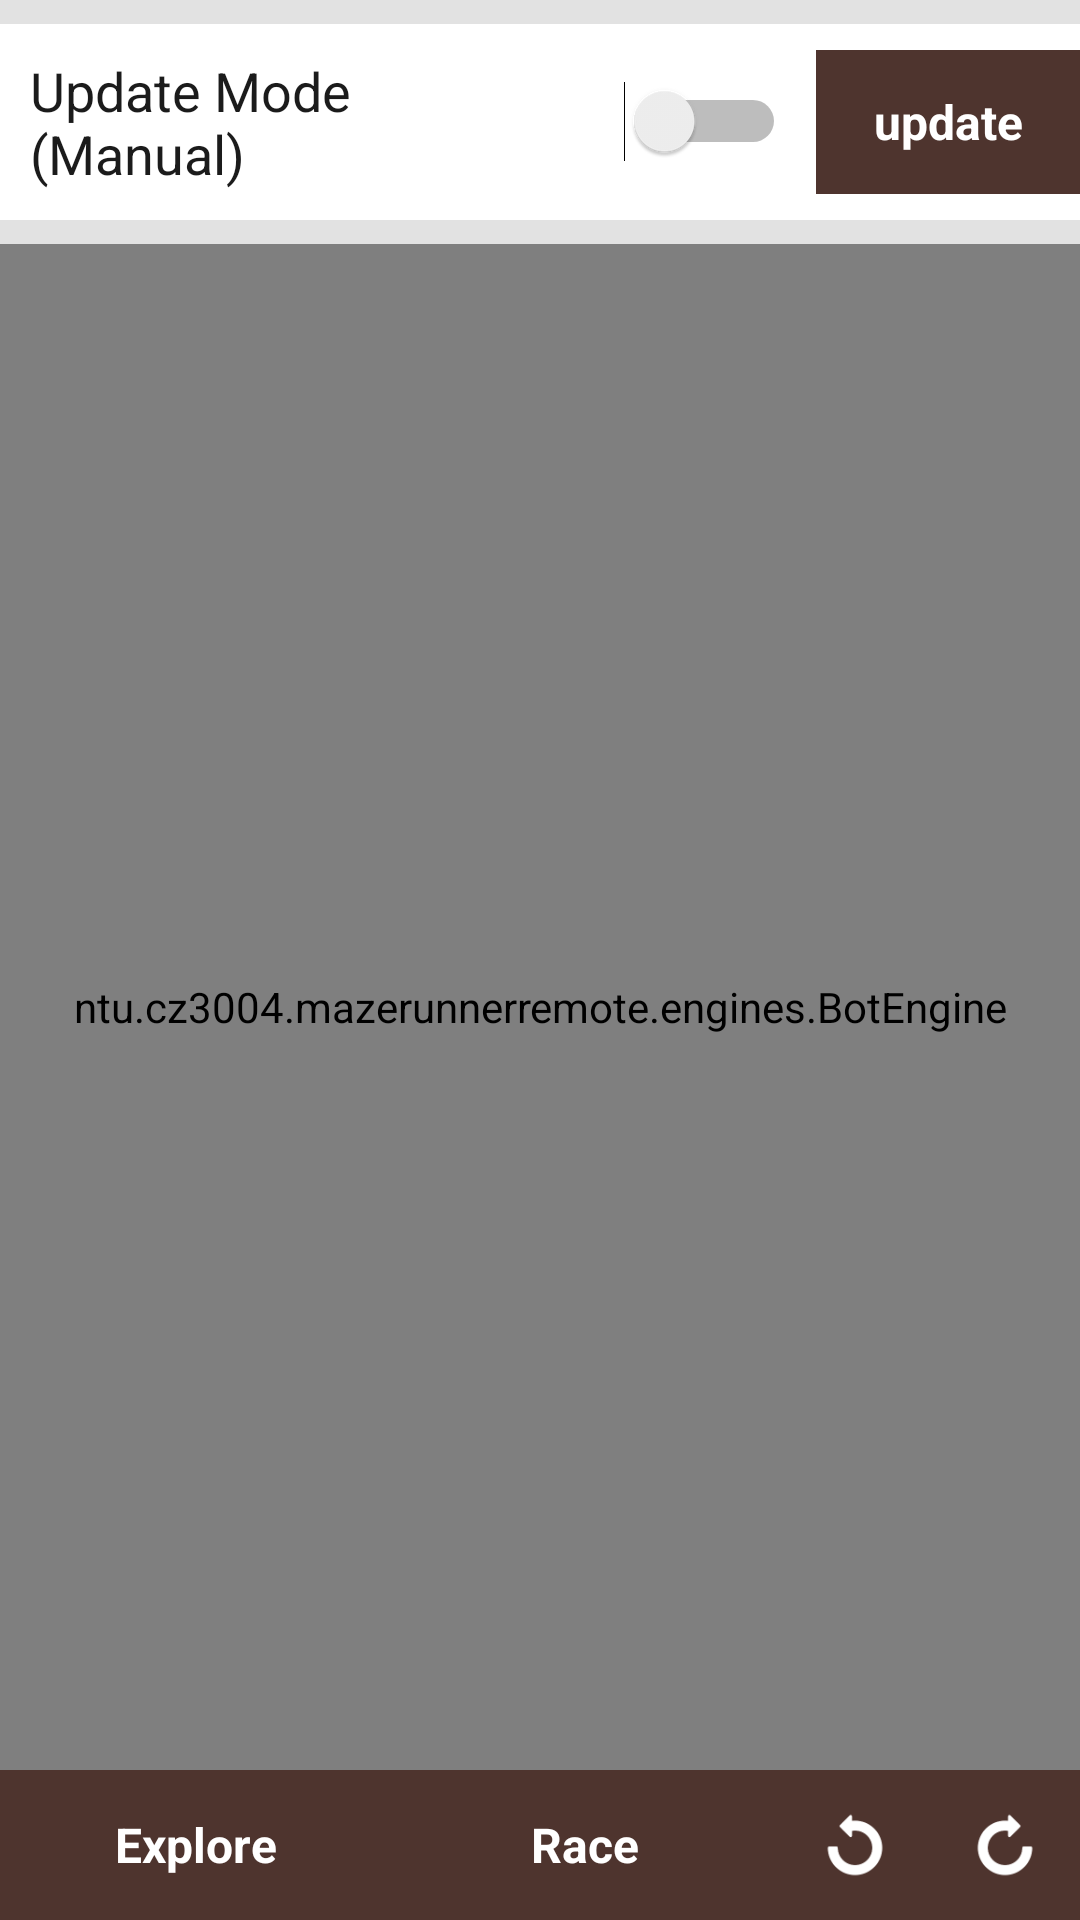

Where icons sit on this 1080*1920 app screen, as (x1, y1, x2, y2):
rotate acw: (827, 1814, 883, 1876)
rotate cw: (977, 1814, 1033, 1876)
